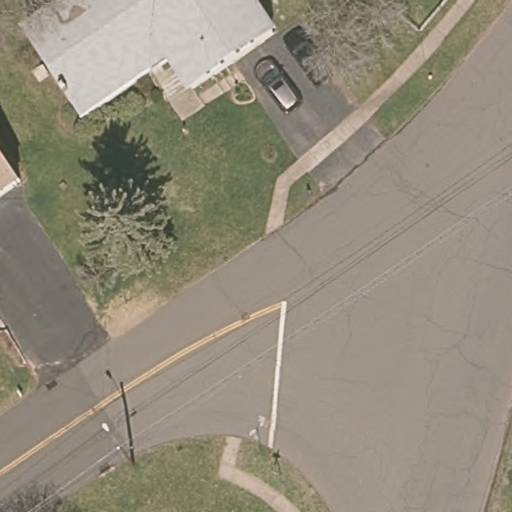DT: (99, 421, 137, 466)
